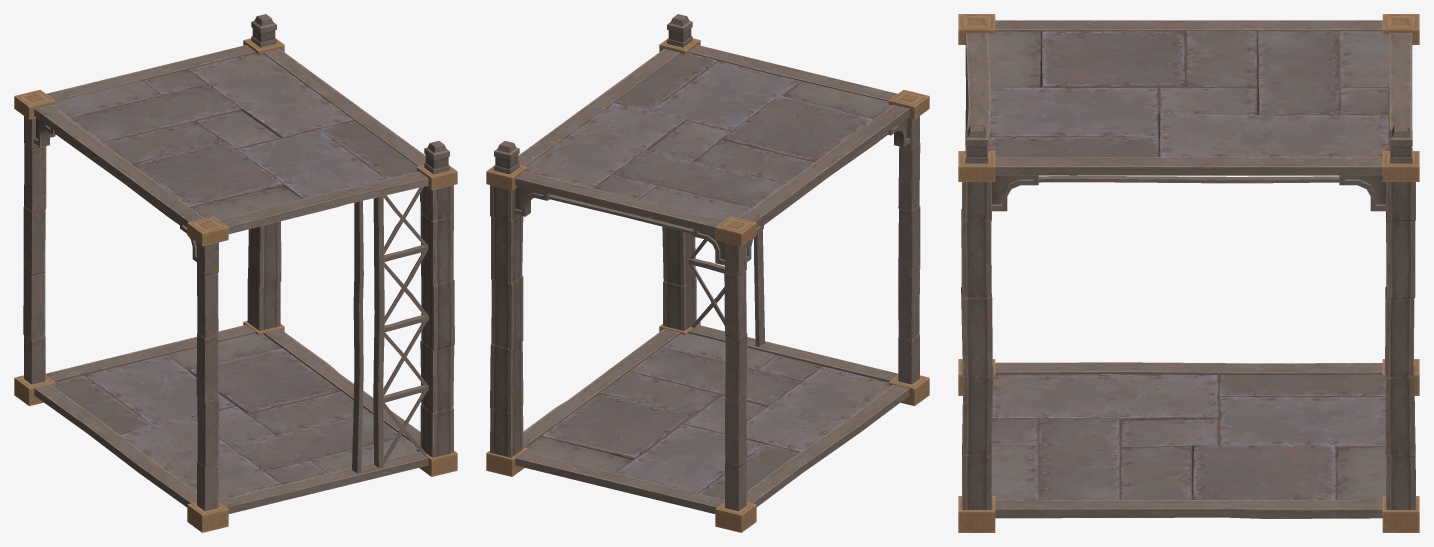
File: Homeworld_Exterior_Fd_Table_Prop_JyJiazi_02_Lod0.fbx
3 renders of one model, left to right at view 1: azimuth 30°, elevation 25°; view 2: azimuth 150°, elevation 25°; view 3: azimuth 270°, elevation 25°, orthographic. The views are drawn at different scales.
Visible parts, largest first — view 1: Area_Fd_Prop_SXGC_Jiazi_03_Lod0; view 2: Area_Fd_Prop_SXGC_Jiazi_03_Lod0; view 3: Area_Fd_Prop_SXGC_Jiazi_03_Lod0.
Part boxes in pixels (<box>): Area_Fd_Prop_SXGC_Jiazi_03_Lod0: <box>14,14,457,532</box>; Area_Fd_Prop_SXGC_Jiazi_03_Lod0: <box>486,14,929,532</box>; Area_Fd_Prop_SXGC_Jiazi_03_Lod0: <box>958,14,1419,532</box>.
Bounding box in the file's own units: 4.28 × 5.2 × 5.47.
